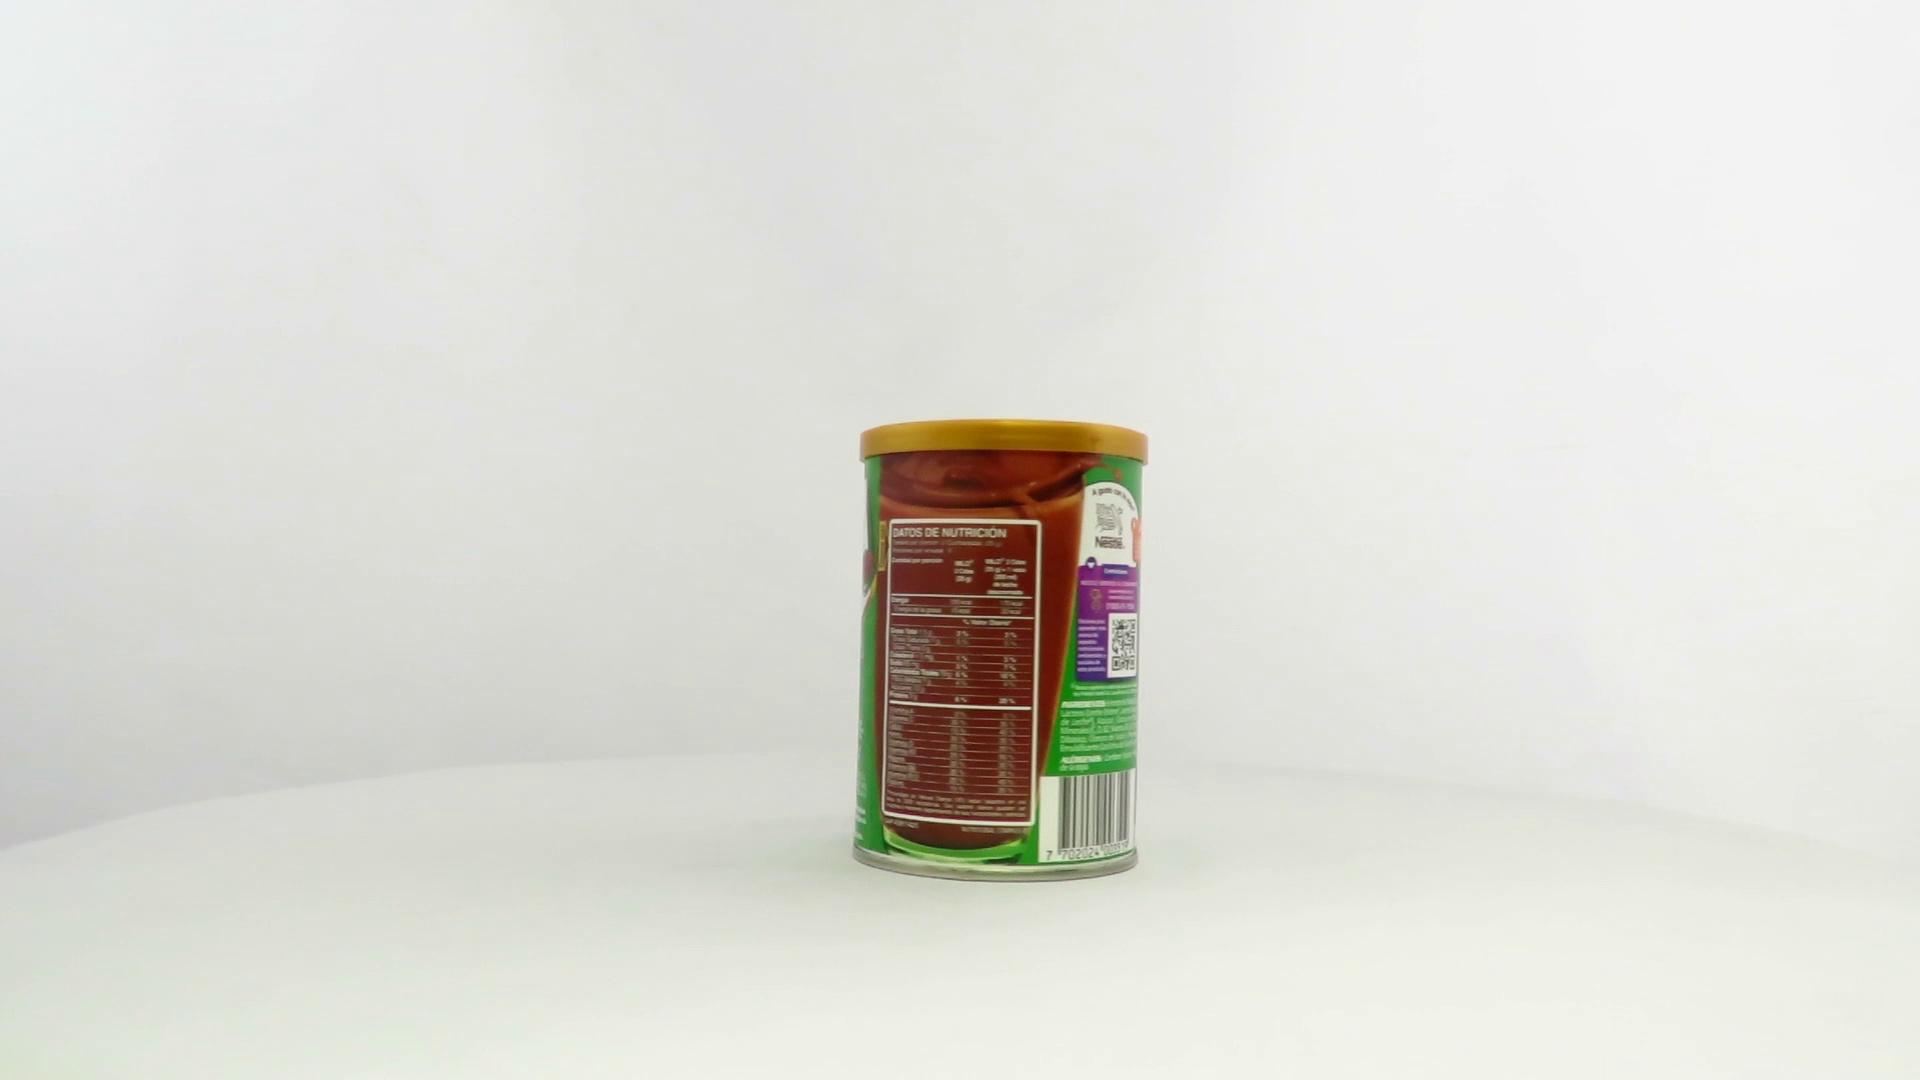COL0170203LAT20000: (847, 413, 1155, 889)
